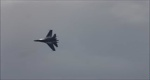maybay_muctieu: (33, 30, 59, 52)
